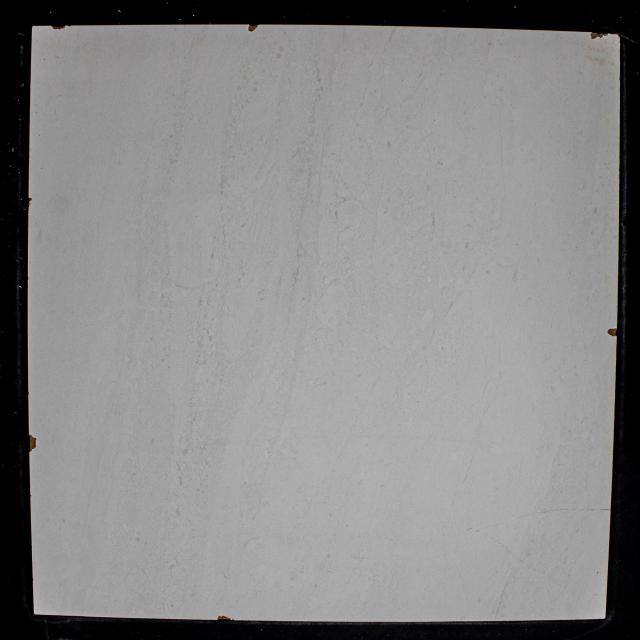edge-chipping: (494, 572, 511, 620), (28, 433, 37, 452), (590, 31, 609, 40), (50, 23, 66, 31), (247, 23, 259, 33), (216, 615, 236, 621), (606, 328, 618, 338), (28, 196, 32, 207)
line: (536, 508, 613, 514)
